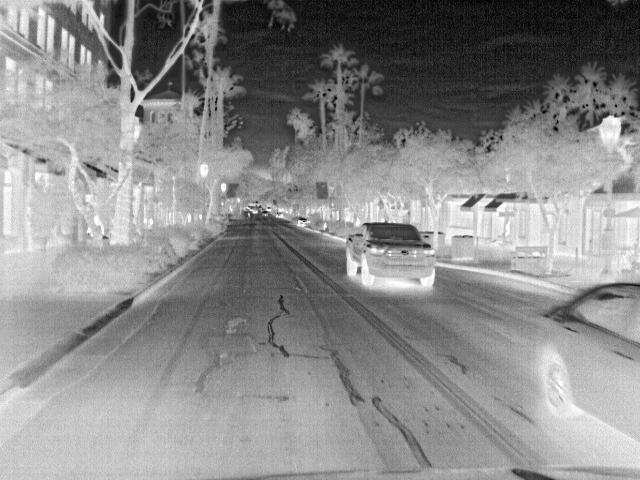car: (533, 280, 639, 448), (342, 222, 439, 290), (295, 215, 311, 226), (274, 211, 285, 219)
person: (87, 212, 108, 239)
